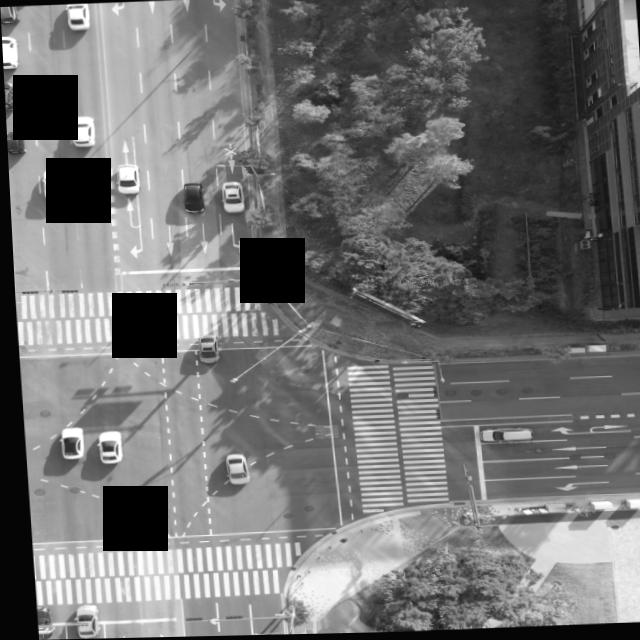car: (51, 425, 84, 460), (92, 430, 120, 464), (475, 430, 530, 446), (63, 2, 92, 31), (68, 116, 96, 146), (72, 605, 96, 639), (38, 172, 67, 200), (180, 184, 206, 214), (219, 453, 245, 483), (191, 336, 218, 364), (219, 183, 244, 212), (113, 164, 138, 193), (1, 33, 21, 67), (29, 604, 47, 638), (5, 127, 24, 159), (0, 5, 17, 30), (3, 84, 18, 110)
